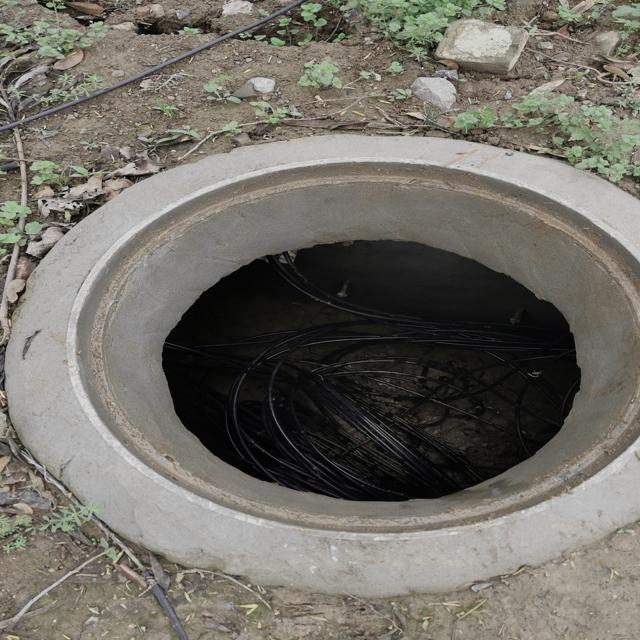lose: (0, 132, 640, 600)
